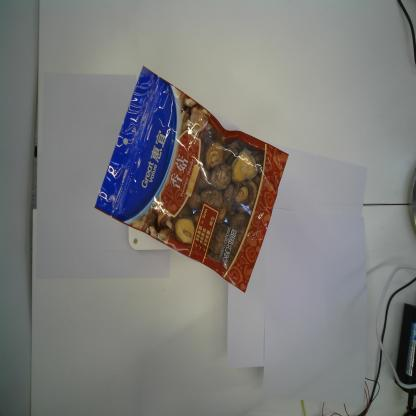Dried Food: (94, 64, 292, 295)
